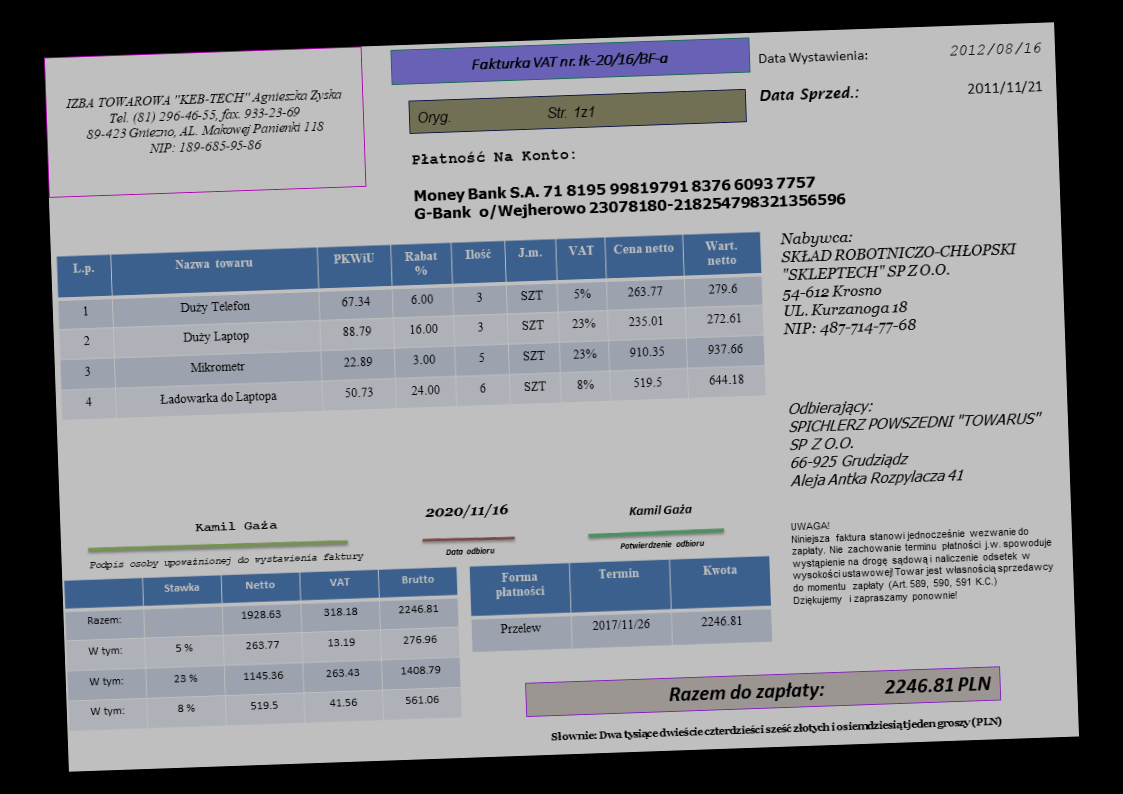Table: (54, 229, 766, 422), (63, 565, 462, 731), (468, 554, 773, 653)
TextBox: (777, 221, 1022, 341), (787, 509, 1059, 609), (784, 390, 1049, 492), (410, 170, 849, 225), (63, 82, 345, 160), (547, 712, 1004, 745), (665, 671, 995, 707), (87, 548, 366, 574), (466, 48, 672, 75), (415, 101, 598, 128), (407, 145, 577, 170), (756, 83, 867, 107), (755, 46, 871, 66), (947, 38, 1044, 60), (422, 500, 510, 522), (193, 517, 282, 536), (617, 535, 705, 553), (963, 78, 1046, 97), (624, 500, 695, 519), (442, 544, 498, 559)
